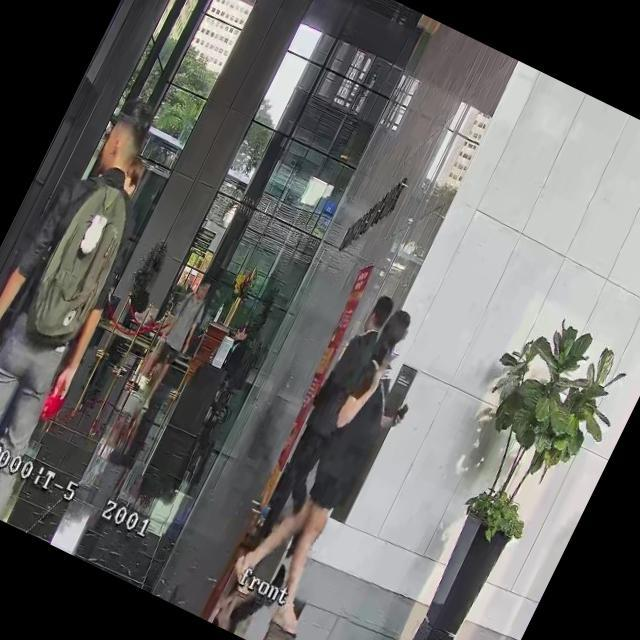person: (0, 82, 196, 519), (215, 291, 448, 640), (246, 286, 401, 552), (128, 270, 218, 412), (220, 324, 258, 379), (221, 326, 247, 366)
